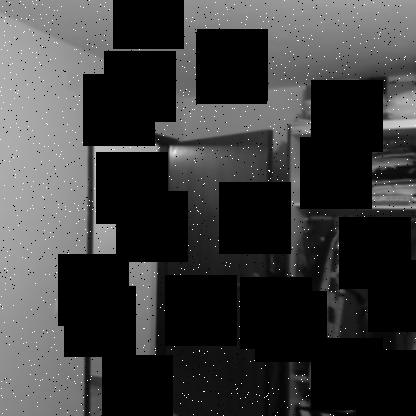Porte: (81, 114, 278, 415)
